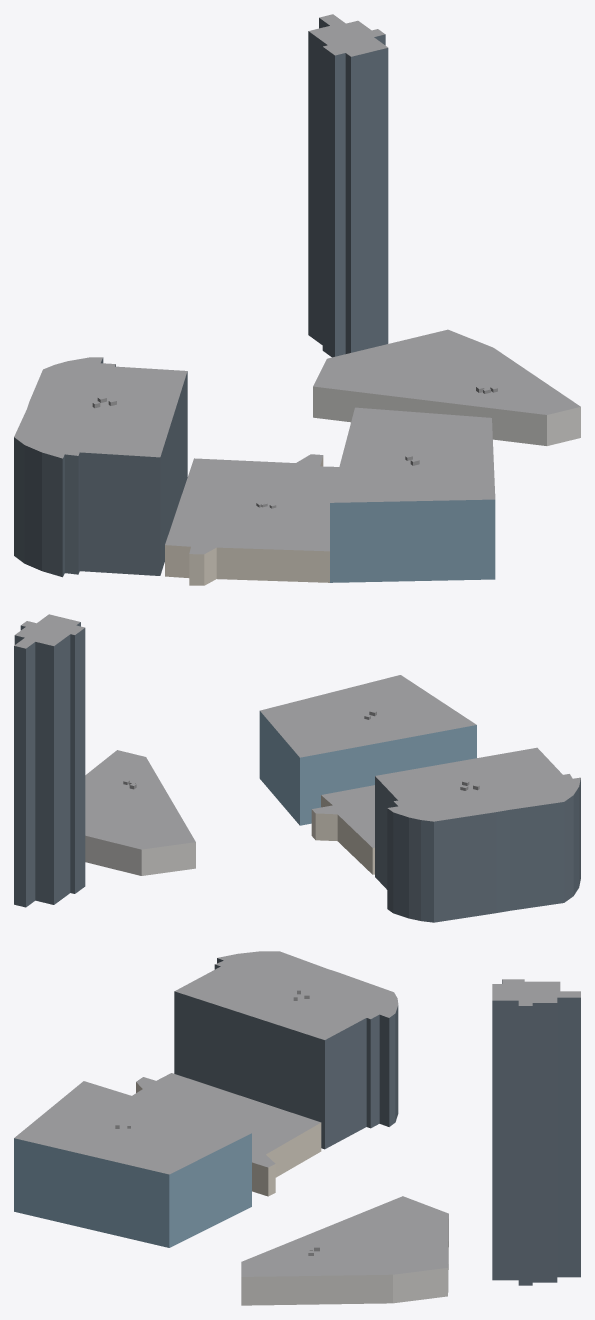
Rendered from building_-1_6.glb.
The picture shows the model from 3 angles, top to bottom: view 1: azimuth 30°, elevation 25°; view 2: azimuth 150°, elevation 25°; view 3: azimuth 270°, elevation 25°; orthographic projection. The views are drawn at different scales.
Visible parts, largest first — view 1: roof, glass_dark, glass_blue, concrete_light, concrete_warm; view 2: glass_dark, roof, glass_blue, concrete_light, concrete_warm; view 3: glass_dark, roof, glass_blue, concrete_light, concrete_warm.
Boxes of the visible parts, x1,y1,x2,y2 form: roof: (14,14,580,554); glass_dark: (14,18,388,577); glass_blue: (330,499,495,582); concrete_light: (313,386,580,445); concrete_warm: (165,456,329,585); glass_dark: (14,622,580,922); roof: (14,614,580,849); glass_blue: (259,711,476,825); concrete_light: (85,835,195,875); concrete_warm: (311,795,374,874); glass_dark: (174,958,580,1285); roof: (14,951,580,1276); glass_blue: (14,1133,251,1247); concrete_light: (241,1219,448,1305); concrete_warm: (136,1082,321,1196).
Size of the model in its own units: 235 by 125 by 230.
